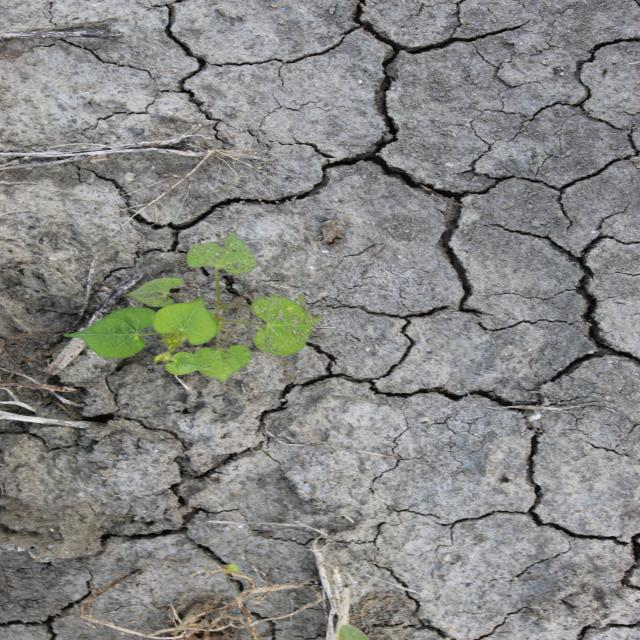MorningGlory: (60, 228, 326, 387)
